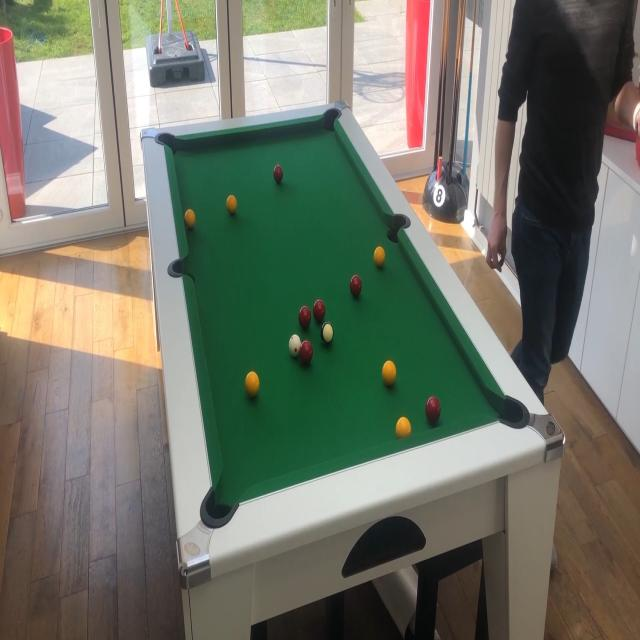Ball: (382, 360, 397, 388), (426, 395, 440, 423), (245, 371, 259, 396), (298, 305, 312, 329), (396, 416, 411, 438), (321, 322, 334, 346), (312, 299, 326, 321), (300, 340, 312, 365), (289, 334, 301, 357), (350, 275, 362, 298), (373, 246, 385, 267), (184, 210, 196, 229), (226, 195, 237, 214), (274, 165, 284, 183)
Billiard table: (140, 99, 566, 589)
